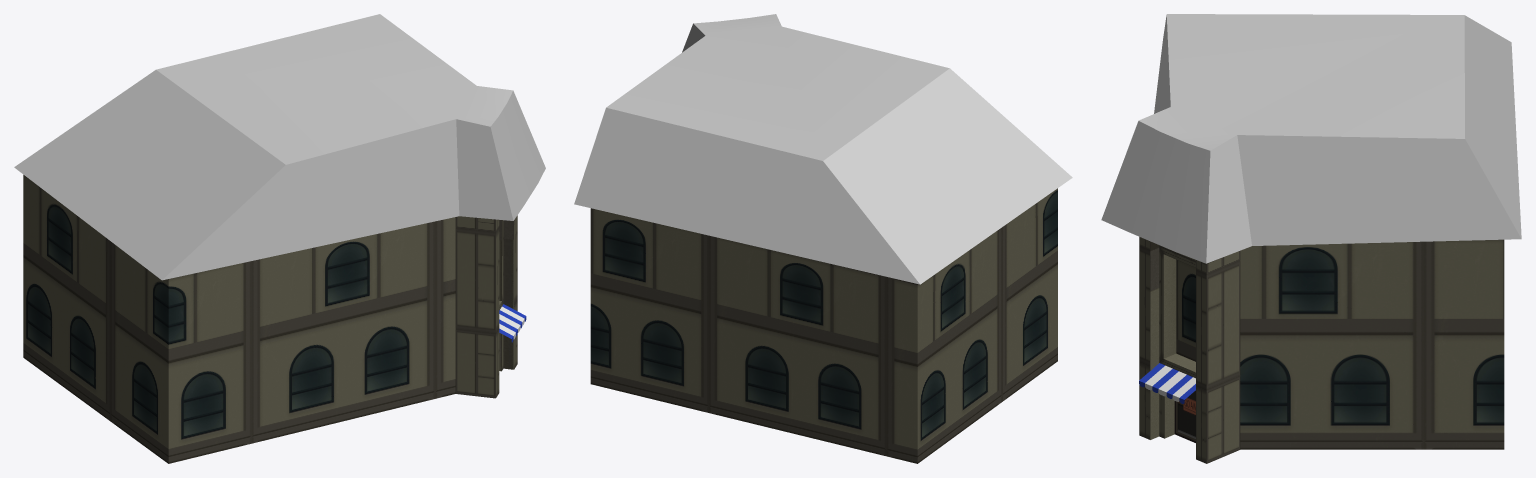
File: House1.fbx
3 views of the same model, side by side, from view 1: azimuth 30°, elevation 25°; view 2: azimuth 150°, elevation 25°; view 3: azimuth 270°, elevation 25° (orthographic). The views are drawn at different scales.
Visible parts, largest first — view 1: Cube; view 2: Cube; view 3: Cube.
Part boxes in pixels (x1=…): Cube: x1=14, y1=14, x2=545, y2=463; Cube: x1=574, y1=14, x2=1072, y2=463; Cube: x1=1101, y1=14, x2=1521, y2=463.
Size of the model in its own units: 24.92 by 16.29 by 19.75.
